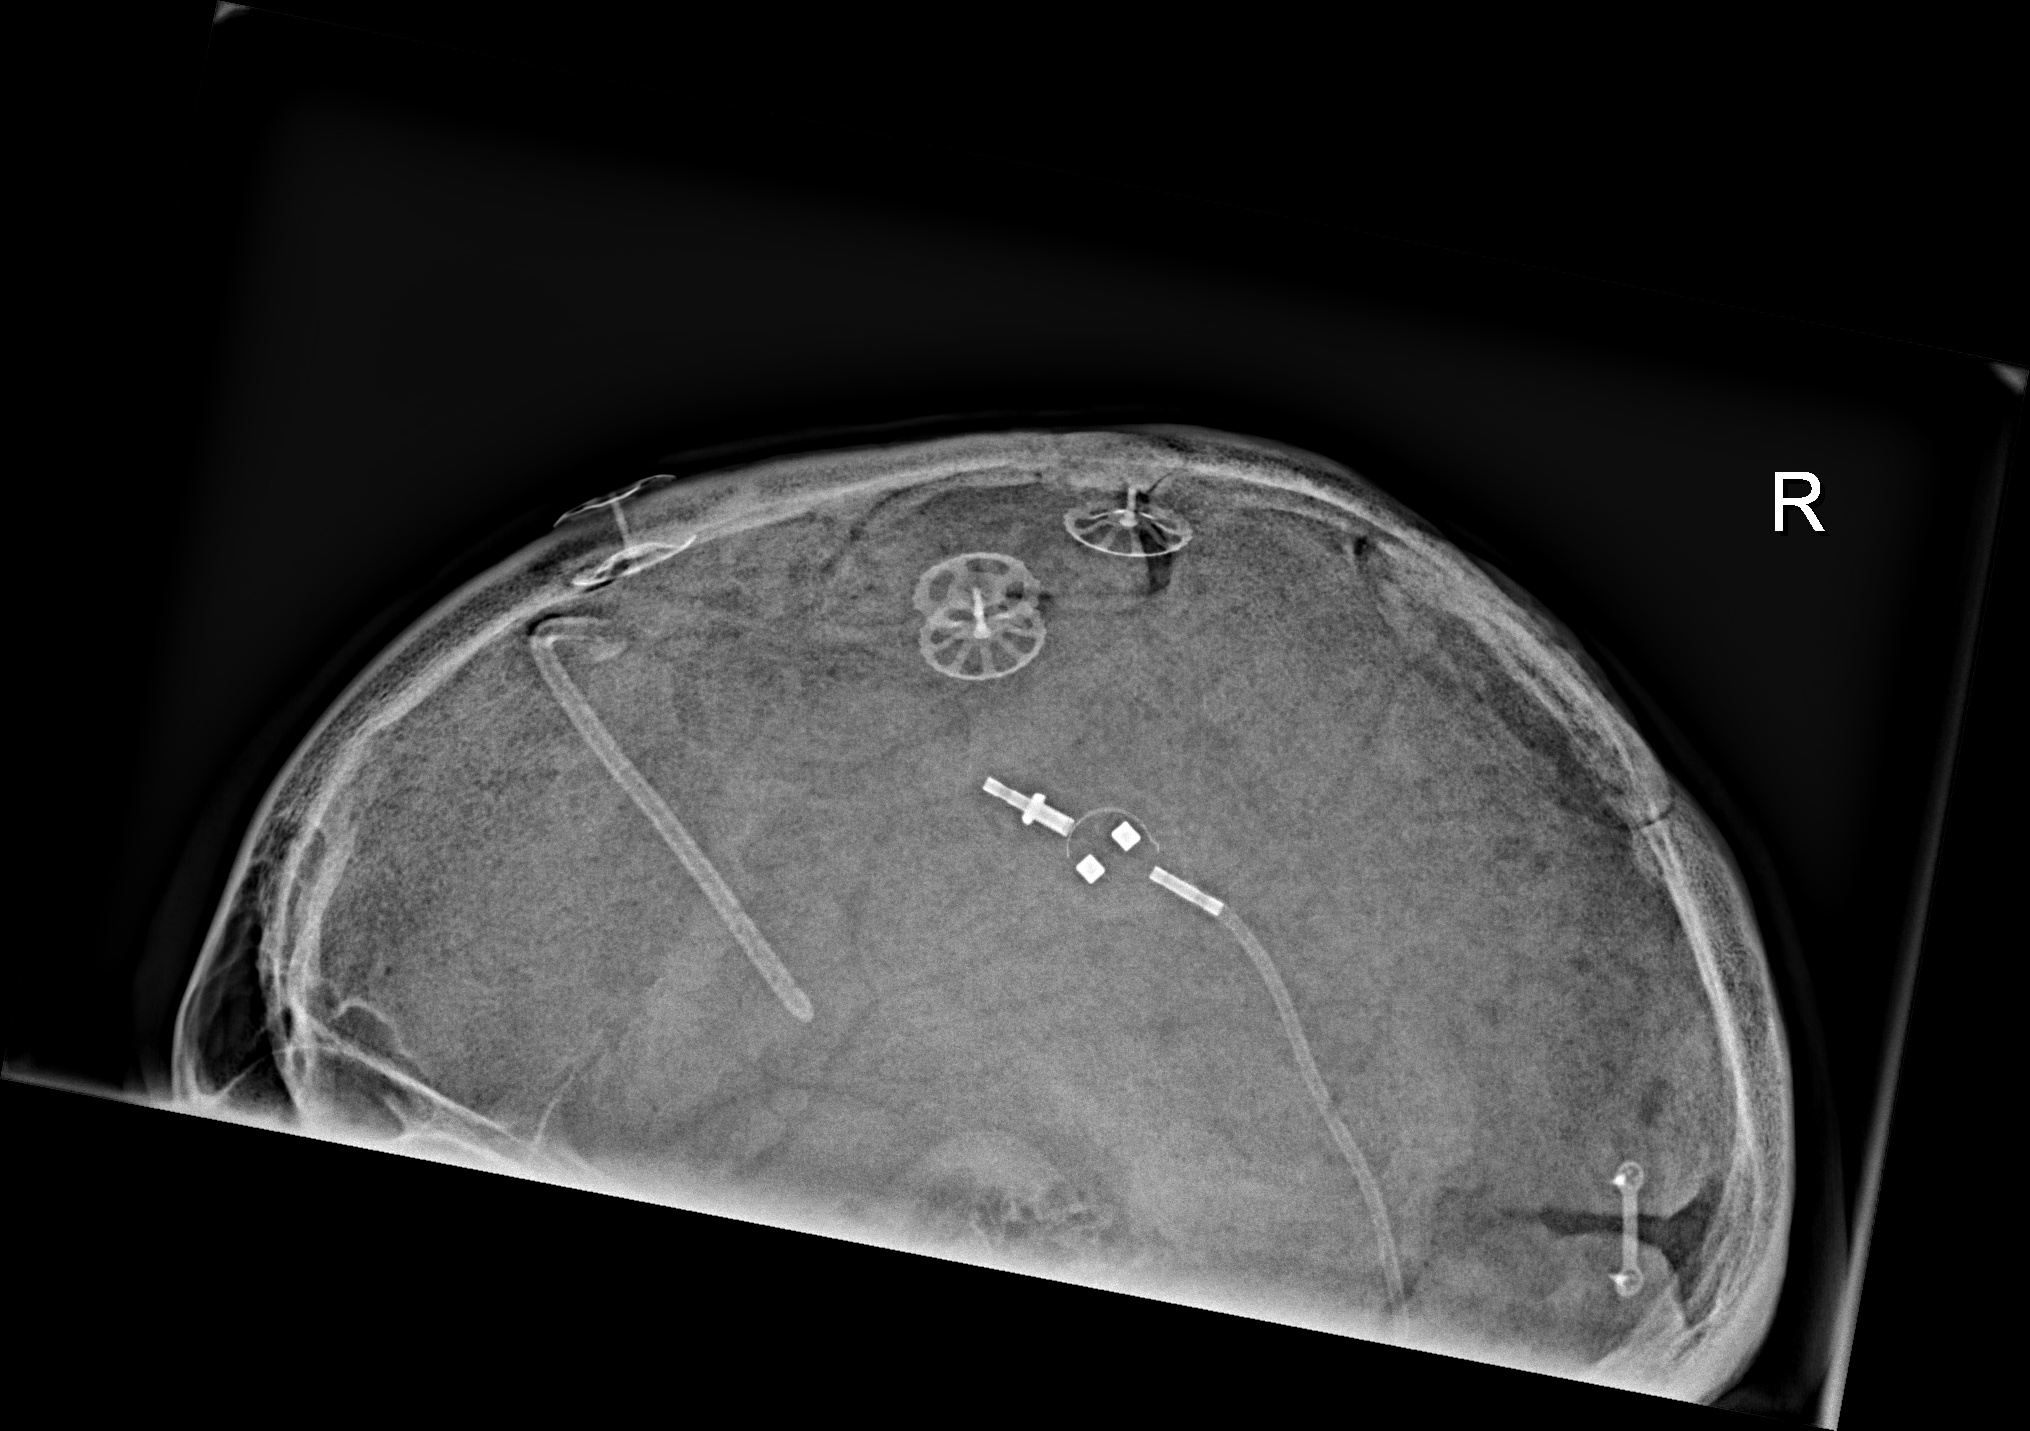Sophysa Polaris: (1054, 784, 1186, 932)
